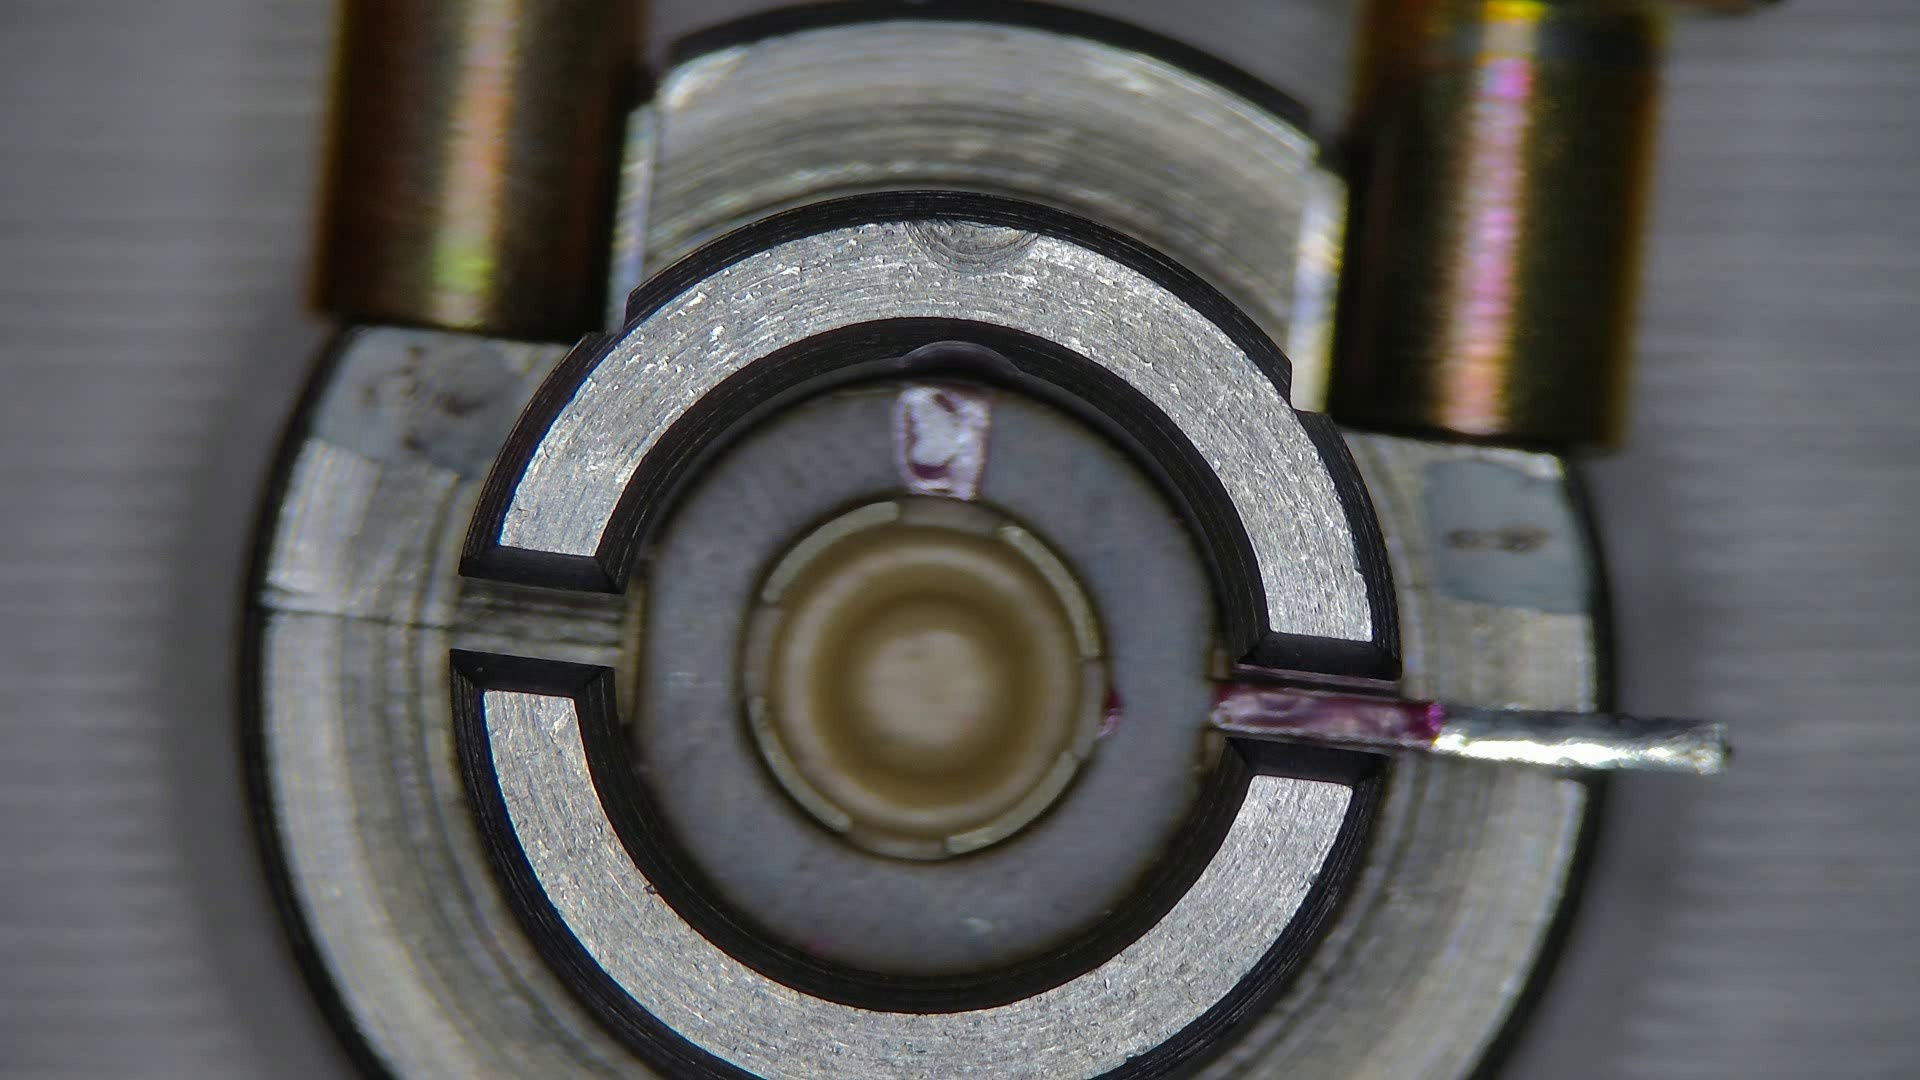YellowOring: (634, 384, 1209, 977)
